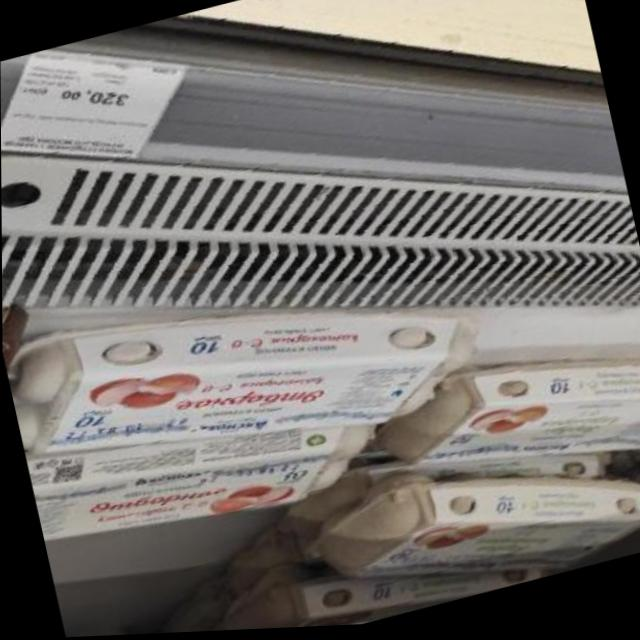Egg: (1, 237, 495, 512), (288, 418, 640, 630), (25, 376, 384, 564), (364, 326, 640, 516), (235, 510, 553, 632)
